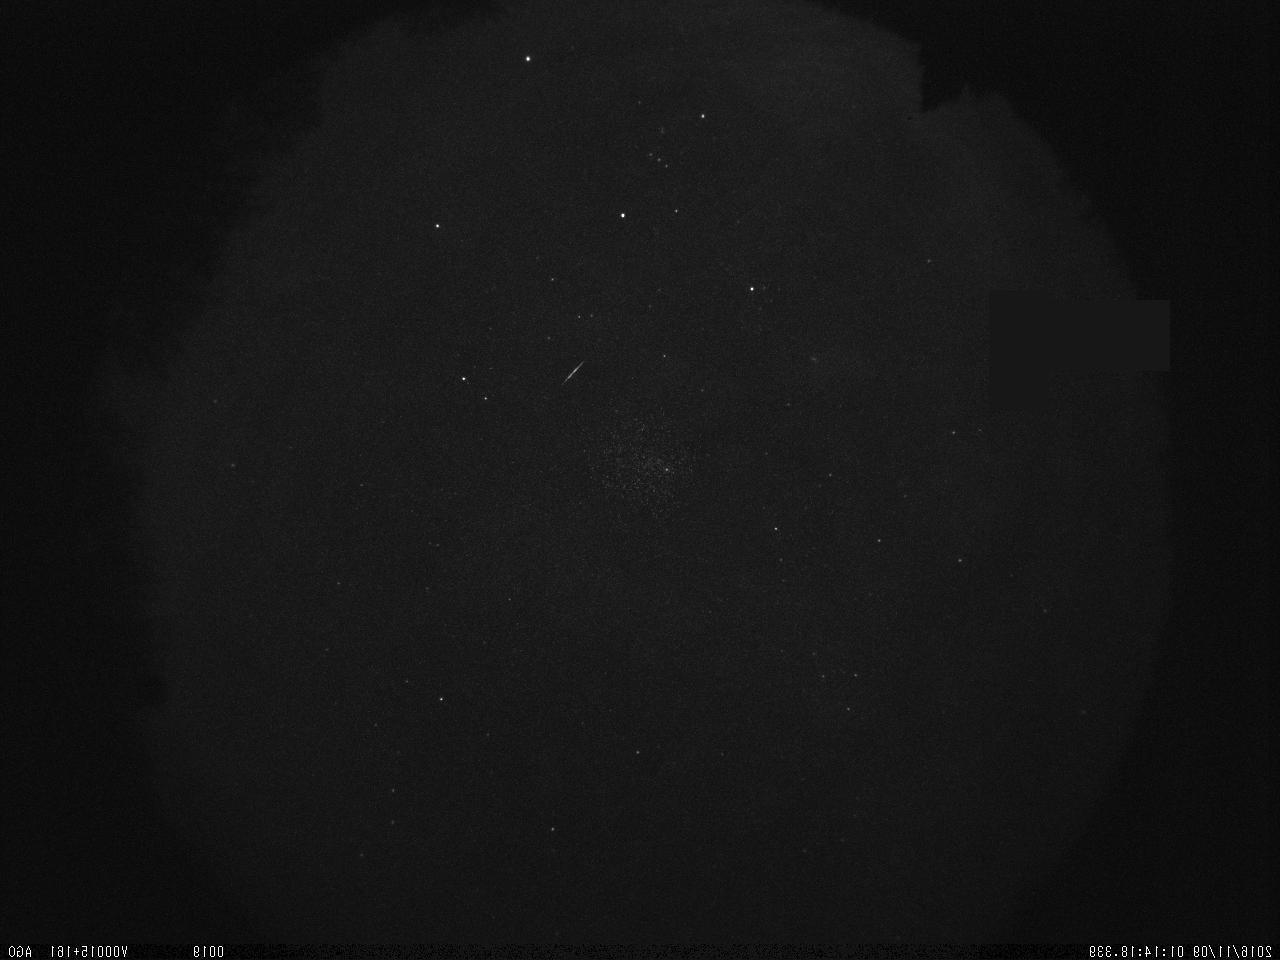meteor: (543, 351, 598, 404)
